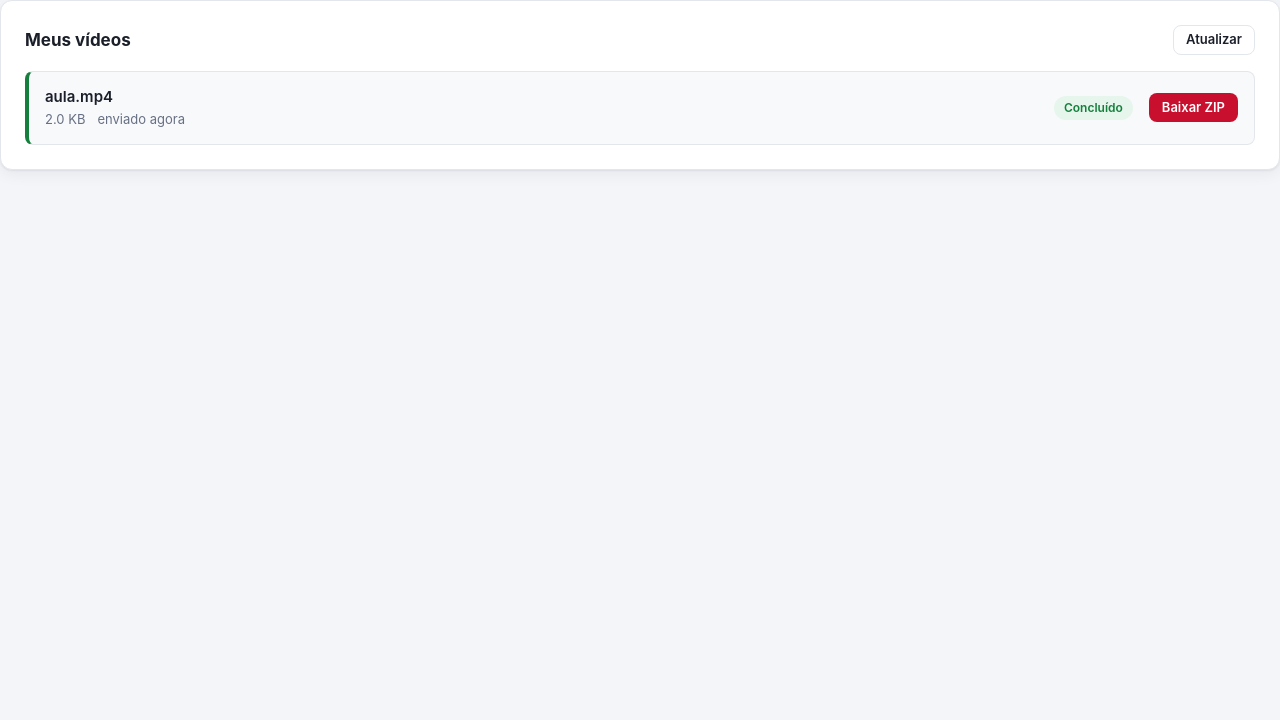
Test: VideoList › avisa erro de download
Click the button "Baixar ZIP" at (1193,108), box [1149,93,1238,122]
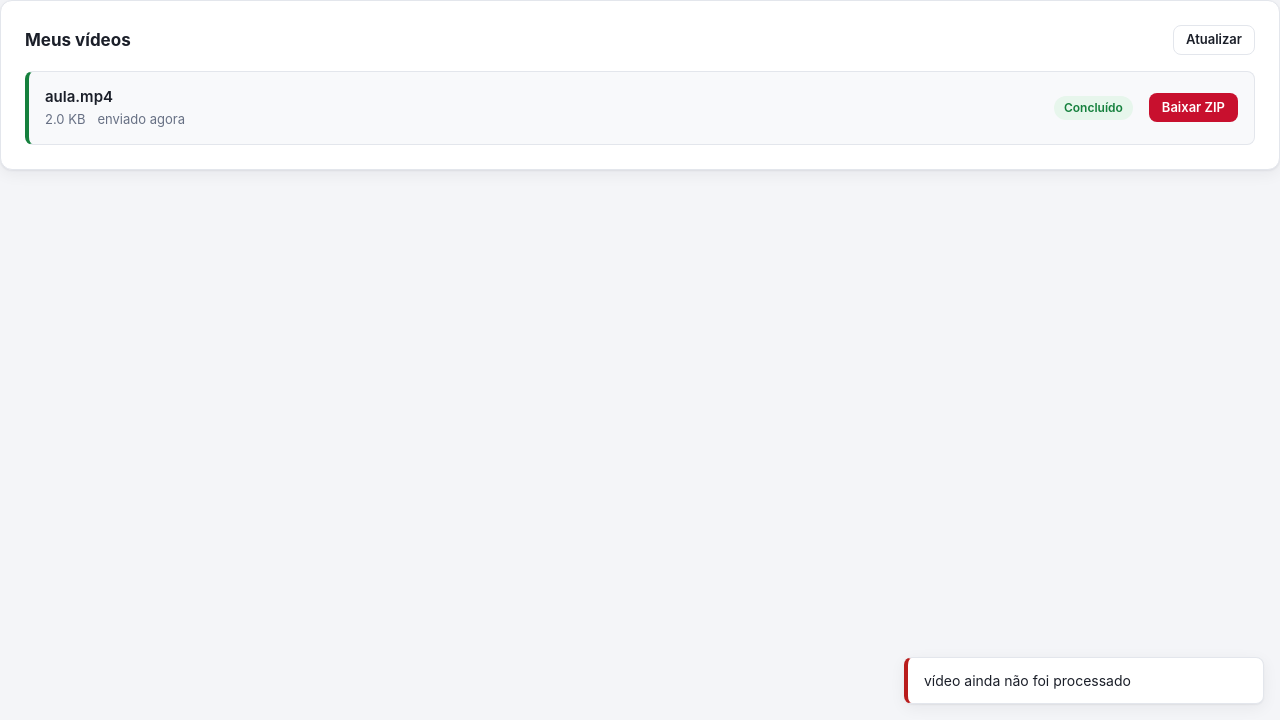
Expected: the text "vídeo ainda não foi processado" is shown, [904,657,1264,704]
